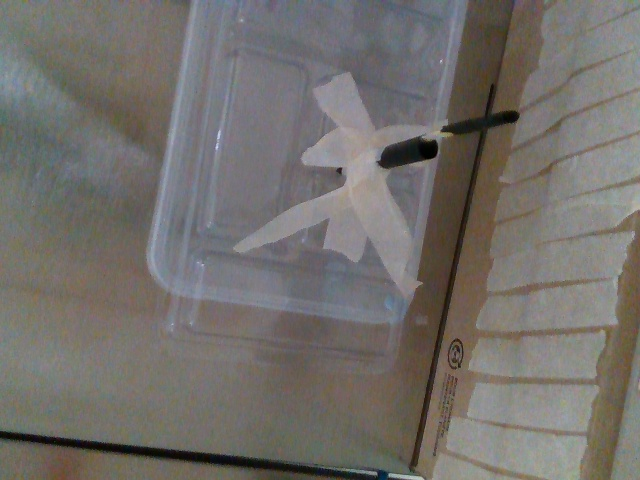test_strip: (421, 109, 519, 142)
